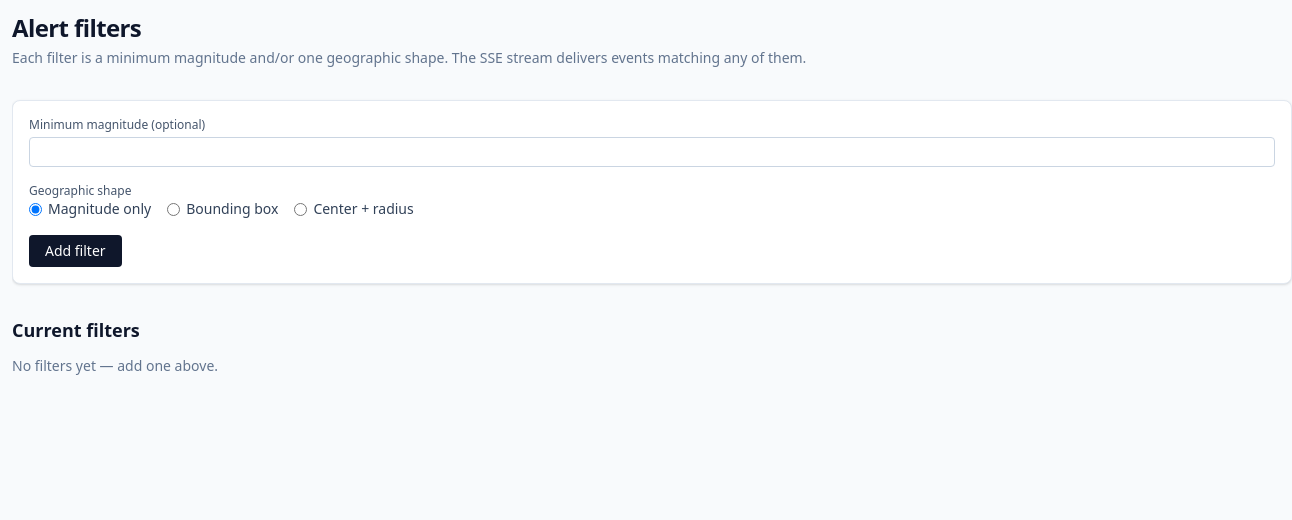
AlertConfig › reveals bounding-box inputs when that shape is selected
Click the radio button labelled "Bounding box".
click(174, 209)  # box [167,202,180,216]
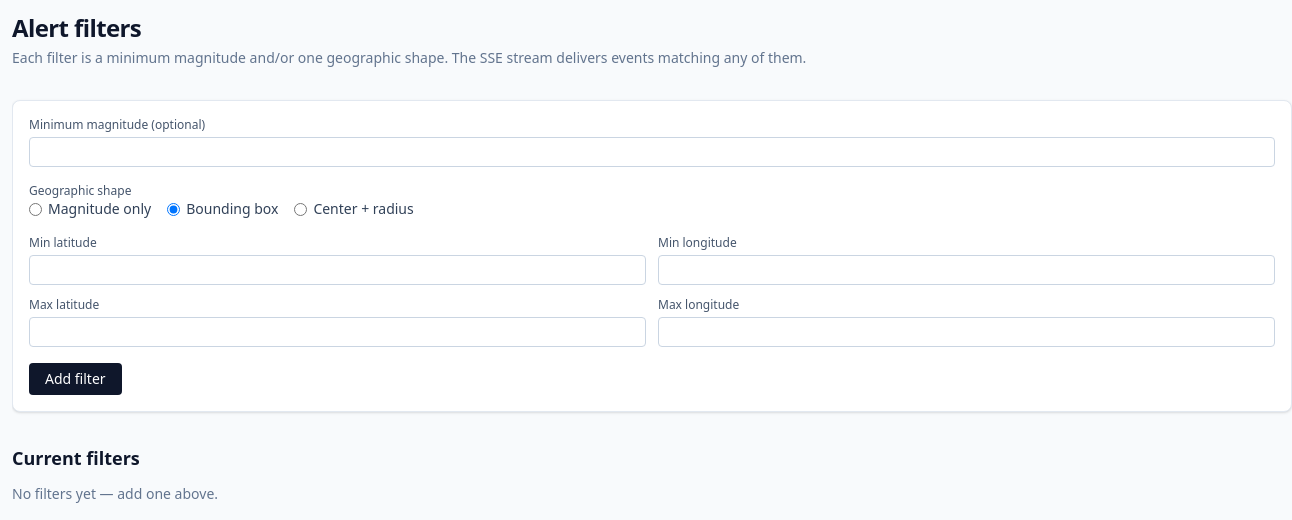
Check: the number field labelled "Min latitude" is shown, box [29,255,646,285]
